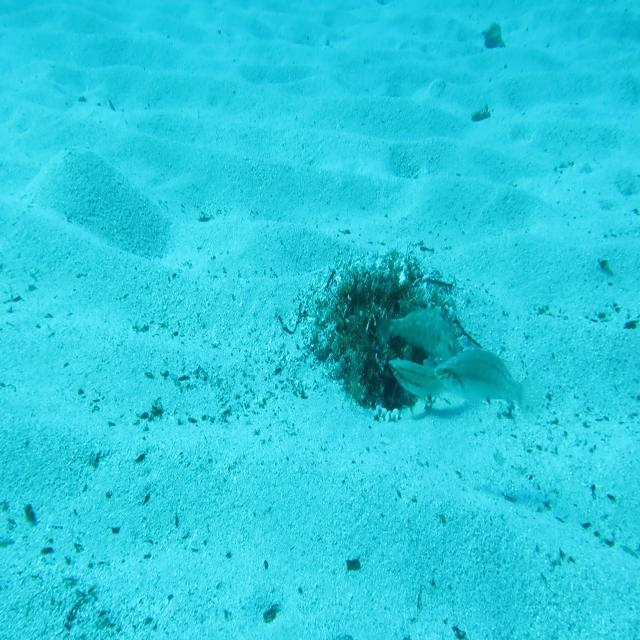DAN_CIRC: (376, 301, 461, 362)
core_nest: (366, 279, 409, 312)
female: (434, 346, 541, 430), (388, 356, 448, 400)
nest: (303, 248, 470, 433)
vegetation: (484, 20, 508, 50), (468, 100, 494, 123), (262, 600, 281, 622), (595, 254, 614, 275), (344, 555, 362, 572)
